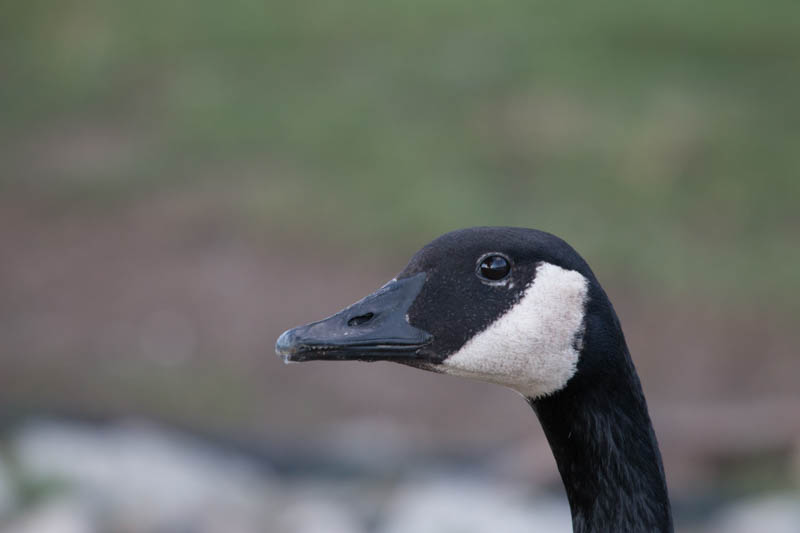goose-head: (275, 224, 644, 399)
